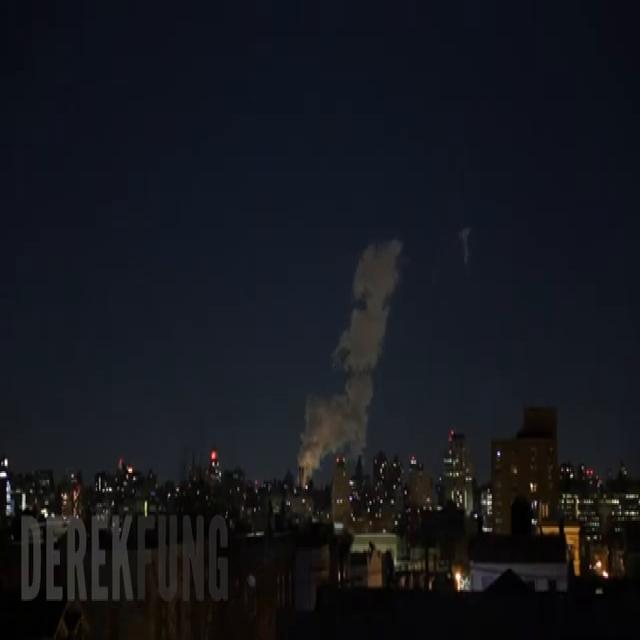smoke: (297, 238, 402, 485)
